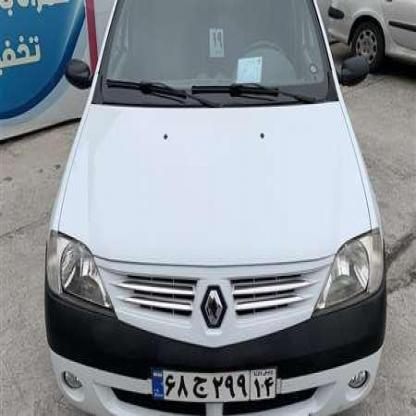Car: (48, 0, 386, 416), (328, 0, 416, 86)
